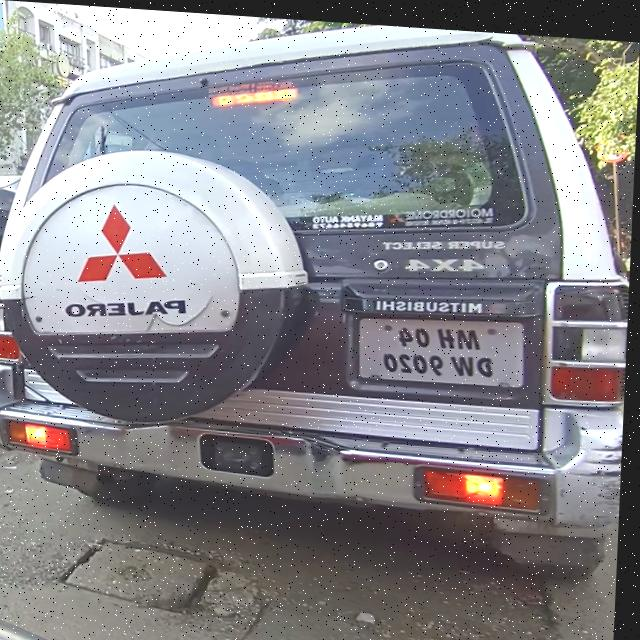plate: (357, 303, 531, 383)
